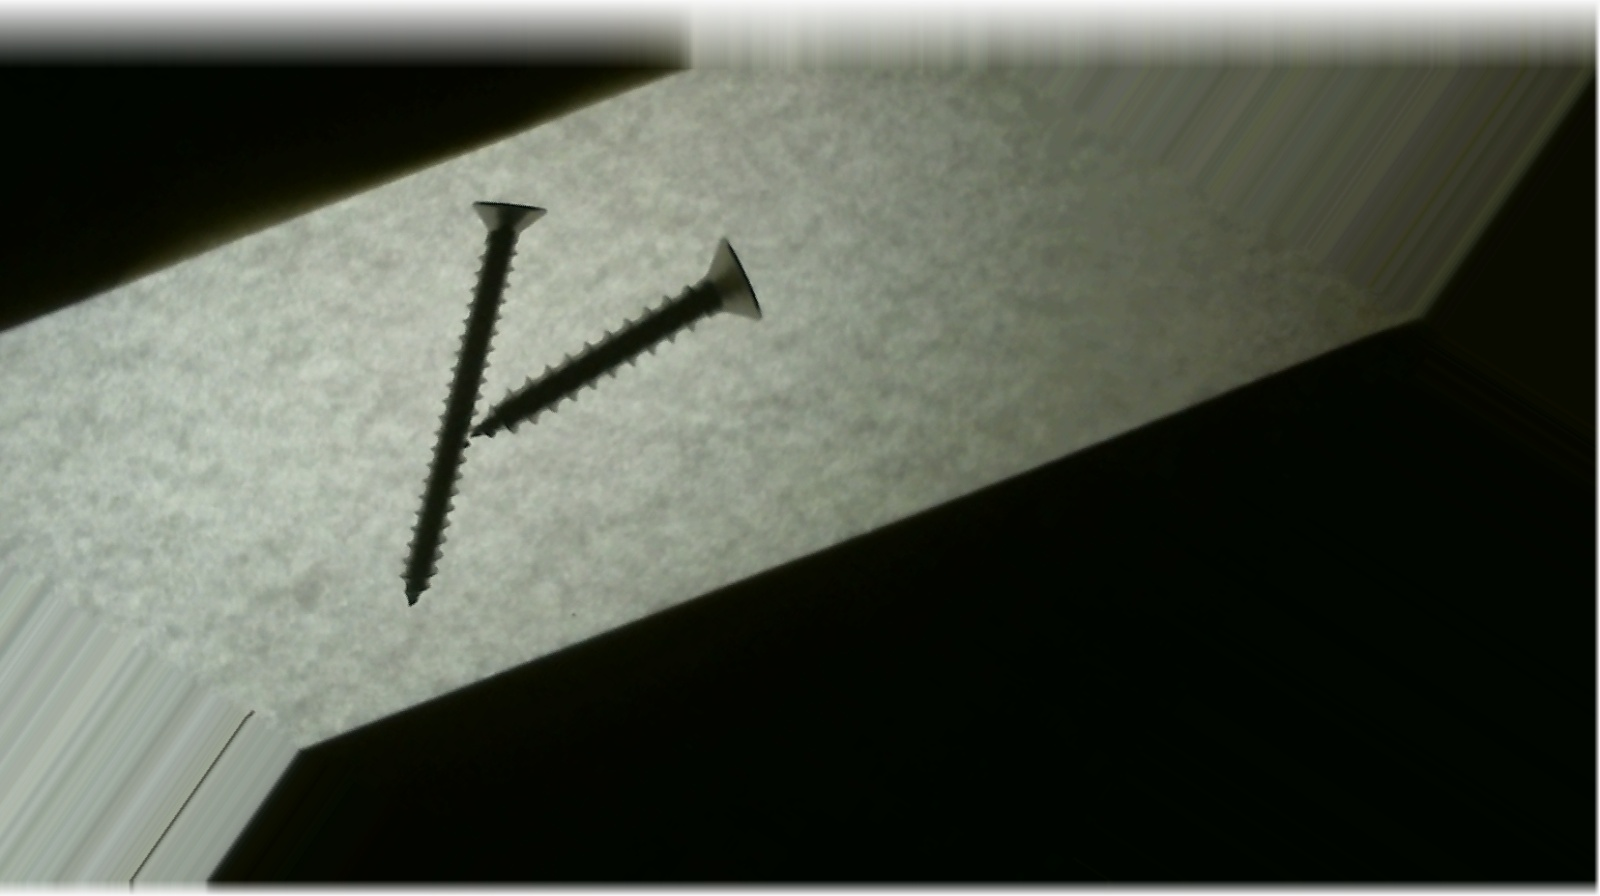S001: (462, 182, 797, 532)
S002: (254, 172, 660, 613)
